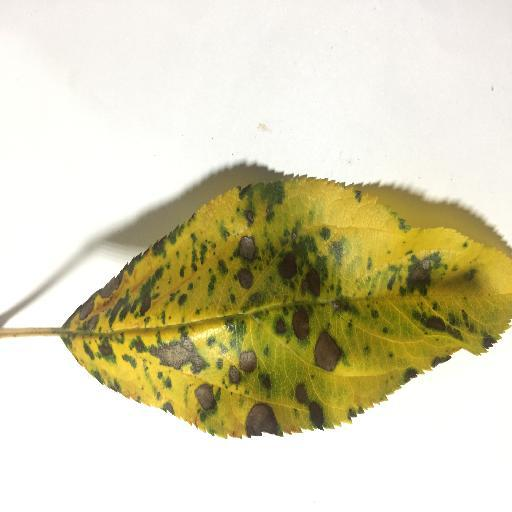Brown_Spot: (142, 346, 205, 368), (320, 335, 348, 372), (250, 409, 277, 435), (290, 314, 317, 340), (236, 237, 258, 259), (302, 274, 322, 296), (243, 352, 264, 370), (198, 386, 214, 408), (96, 278, 125, 290), (78, 301, 97, 318), (308, 405, 322, 428), (427, 318, 447, 334), (235, 274, 252, 291), (295, 386, 312, 403), (413, 265, 431, 281), (274, 316, 289, 334), (281, 257, 296, 270)
